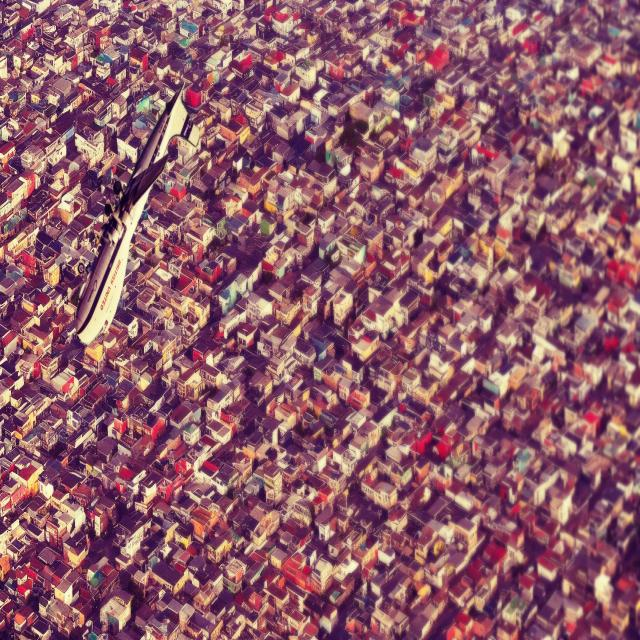airplane: (72, 78, 190, 347)
